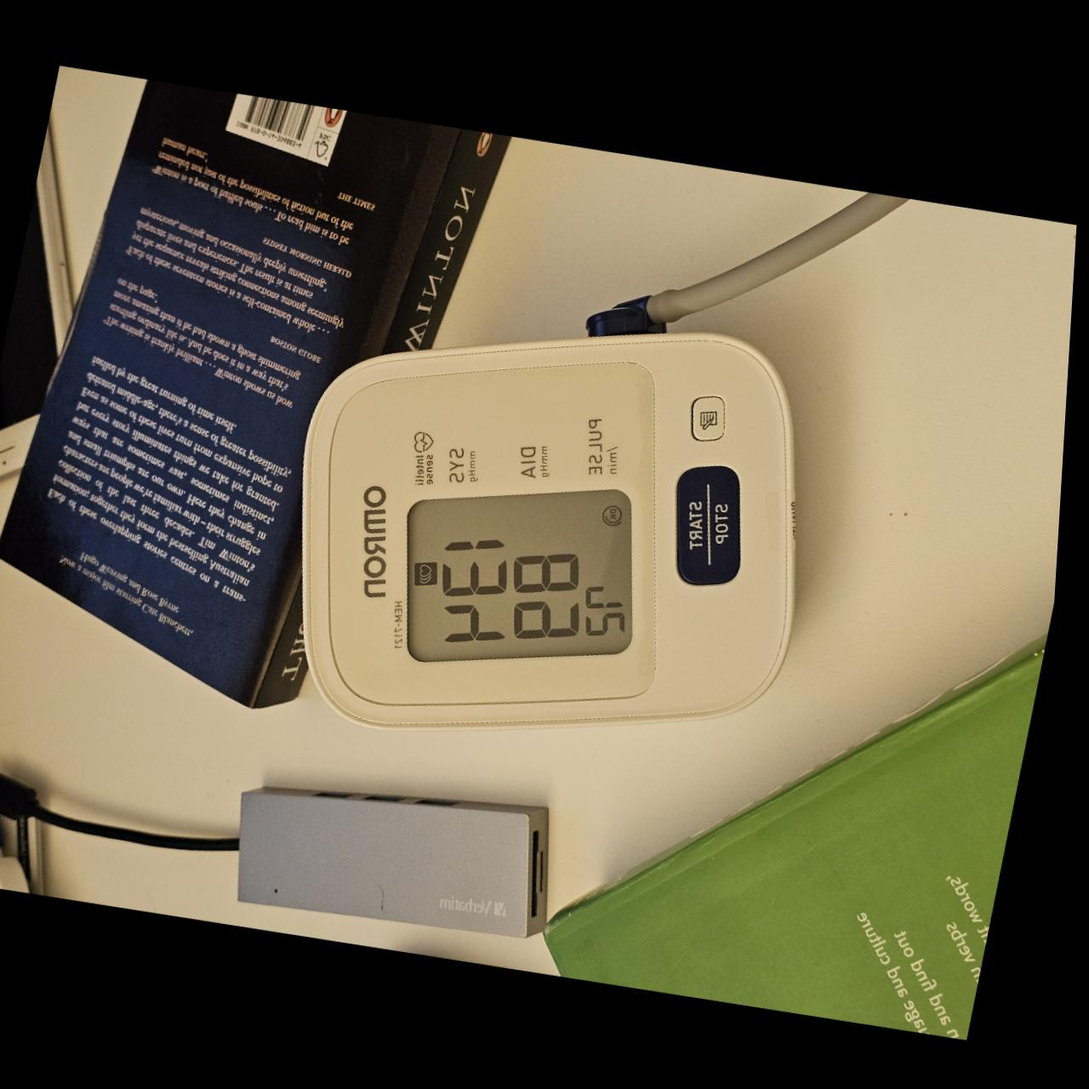blood pressure monitor: (243, 271, 850, 791)
